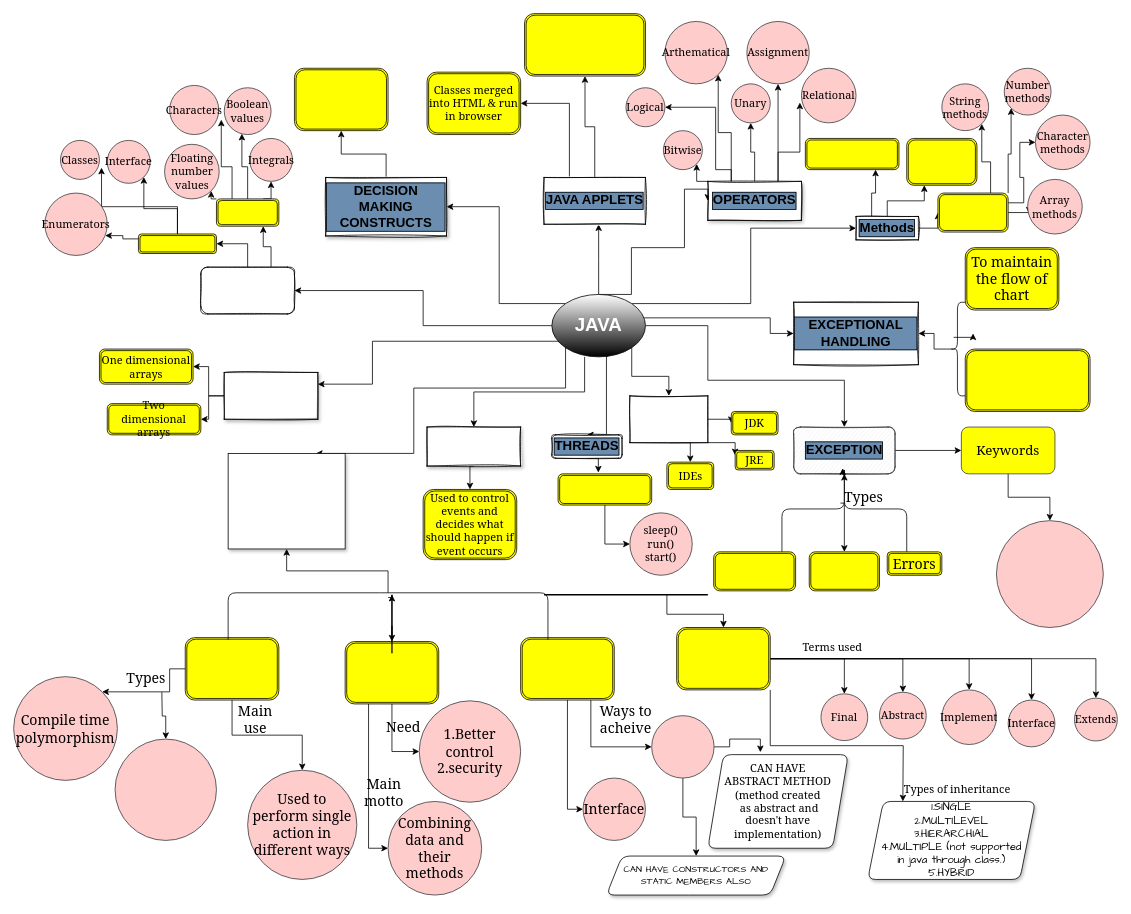
Some shapes in this 1131 by 914 pixel diagram are drawn without their labels. Here are the shapes that lost their labels. From the top down, the centre of each, then its label:
At [584,44]: "Public void init() public void Start() public void stop() public void destroy()".
At [341,99]: "Looping 1.for loop 2.while loop 3. Do-while loop".
At [852,154]: "Type conversion".
At [941,161]: "Passing and returning arguments".
At [247,212]: "Primitive".
At [972,212]: "Built-in java methods".
At [177,243]: "User defined".
At [247,290]: "DATATYPES".
At [957,348]: "Advantage".
At [271,397]: "ARRAYS".
At [1027,379]: "Mechanism to handle the runtime environment".
At [668,419]: "TOOLS USED".
At [474,447]: "EVENT HANDLING".
At [287,502]: "OBJECT ORIENTED PROGRAMMING SYSTEM (OOPs)".
At [604,489]: "Multithreading".
At [754,571]: "Unchecked exception".
At [843,571]: "Checked exception".
At [1049,574]: "1.Try 2.catch 3.Findly 4.throw 5.throws".
At [231,668]: "Polymorphism".
At [391,672]: "Encapsulation".
At [567,668]: "Abstaction".
At [723,658]: "Inheritance".
At [682,746]: "Abstract class".
At [165,789]: "Runtime polymorphism".
